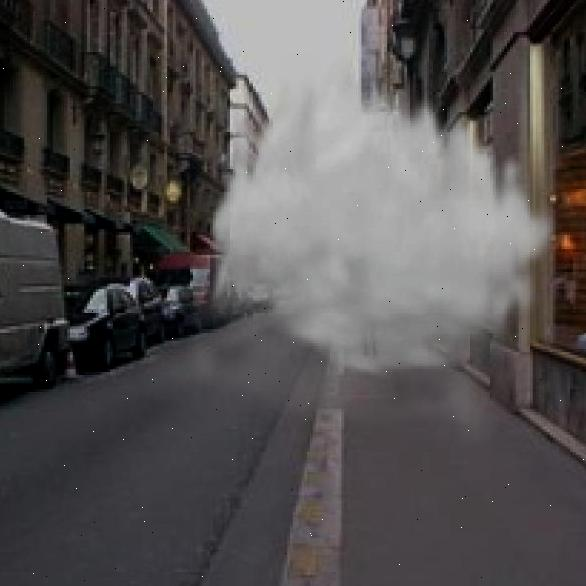smoke: (133, 52, 558, 455)
